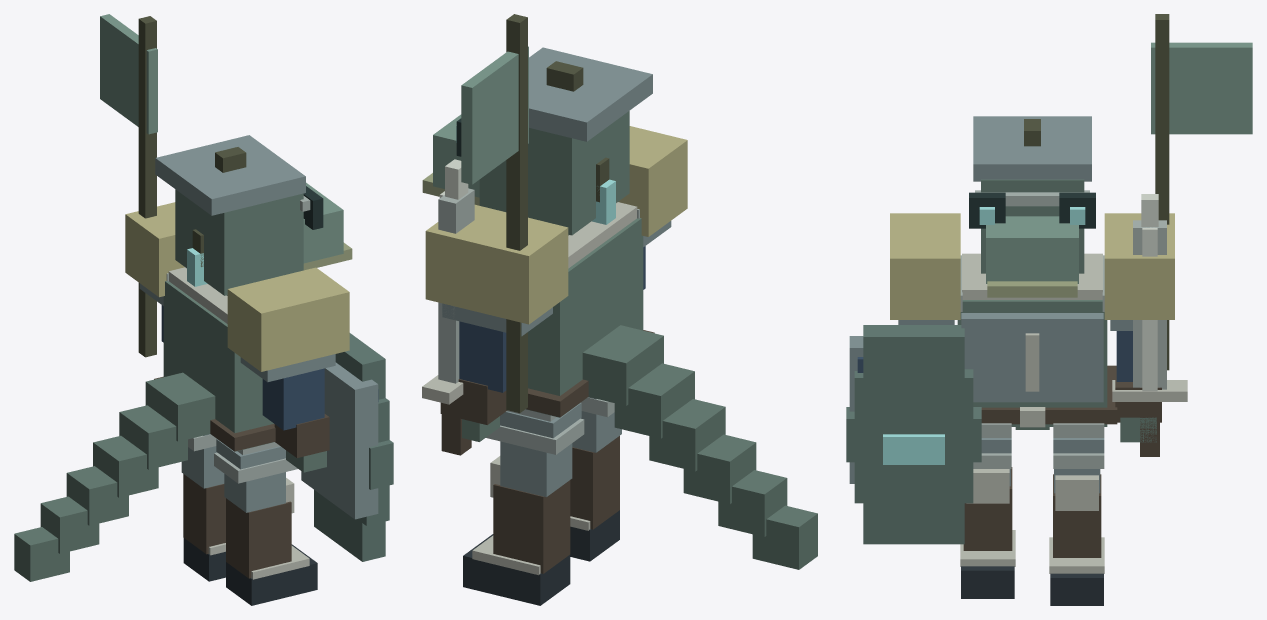
Rendered from scale-captain.glb.
3 renders of one model, left to right at view 1: azimuth 30°, elevation 25°; view 2: azimuth 150°, elevation 25°; view 3: azimuth 270°, elevation 25°, orthographic. The views are drawn at different scales.
Parts seen in each view (by area): view 1: Tail, CaptainPauldrons, Boots, Head, Torso, Shield, Helmet, CityShield, CityStandard, Standard, Sleeves, Legs (+10 smaller); view 2: Tail, CaptainPauldrons, Boots, Torso, Head, Helmet, CityStandard, Standard, Legs, Tassets, Sleeves, SwordBlade (+11 smaller); view 3: CityShield, CaptainPauldrons, Breastplate, Boots, CityStandard, Helmet, Snout, Tassets, Standard, Torso, Kneeguards, Head (+18 smaller).
Part boxes in pixels (box(x1,y1,x2,y2)): Tail: box(14, 372, 215, 581); CaptainPauldrons: box(125, 202, 349, 371); Boots: box(183, 474, 317, 605); Head: box(175, 189, 303, 295); Torso: box(163, 281, 273, 451); Shield: box(301, 362, 378, 519); Helmet: box(155, 135, 310, 215); CityShield: box(314, 333, 393, 561); CityStandard: box(100, 14, 157, 134); Standard: box(138, 16, 156, 357); Sleeves: box(161, 305, 324, 430); Legs: box(181, 434, 285, 512); Tail: box(582, 325, 817, 569); CaptainPauldrons: box(425, 126, 687, 324); Boots: box(463, 436, 619, 605); Torso: box(526, 218, 643, 417); Head: box(479, 111, 629, 235); Helmet: box(529, 47, 652, 141); CityStandard: box(461, 46, 528, 184); Standard: box(506, 14, 527, 413); Legs: box(500, 397, 621, 497); Tassets: box(486, 397, 614, 454); Sleeves: box(459, 246, 645, 392); SwordBlade: box(438, 188, 474, 383); CityShield: box(846, 325, 981, 544); CaptainPauldrons: box(890, 213, 1174, 319); Breastplate: box(961, 313, 1103, 402); Boots: box(961, 467, 1103, 605); CityStandard: box(1151, 42, 1252, 134); Helmet: box(973, 116, 1091, 206); Snout: box(986, 216, 1078, 283); Tassets: box(973, 423, 1104, 468); Standard: box(1155, 14, 1169, 370); Torso: box(957, 300, 1107, 426); Kneeguards: box(966, 469, 1098, 510); Head: box(981, 179, 1084, 273).
Bounding box in the file's own units: 6.62 × 10.77 × 7.2.
